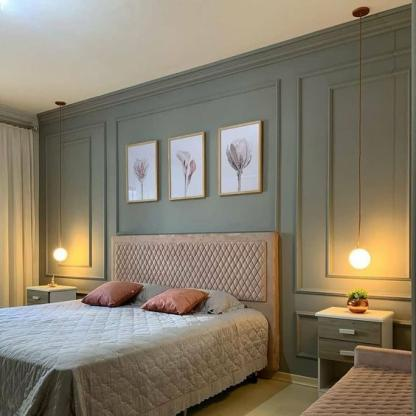Bed: (4, 230, 290, 416)
Curtains: (0, 110, 43, 318)
Futec frame: (295, 59, 411, 361), (43, 117, 109, 287)
Nightstand: (316, 307, 394, 392)
